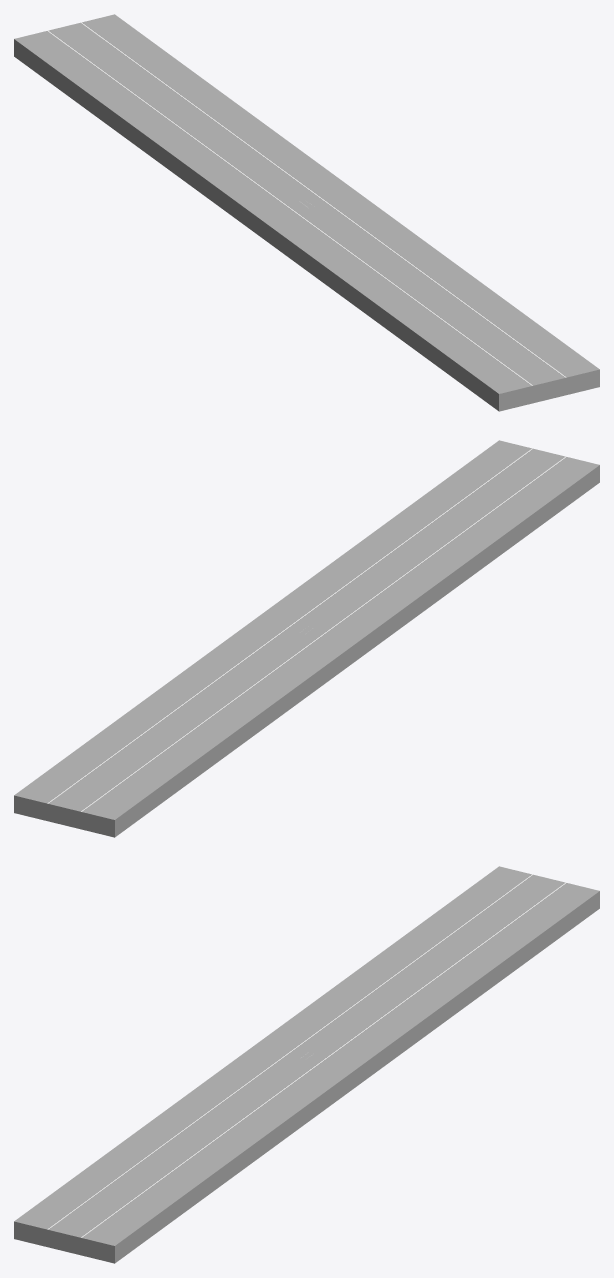
Rendered from Road_straight.fbx.
3 views of the same model, one above another, from view 1: azimuth 30°, elevation 25°; view 2: azimuth 150°, elevation 25°; view 3: azimuth 330°, elevation 25° (orthographic).
Parts seen in each view (by area): view 1: 立方体; view 2: 立方体; view 3: 立方体.
Boxes of the visible parts, x1,y1,x2,y2 form: 立方体: (14, 14, 599, 411); 立方体: (14, 440, 599, 837); 立方体: (14, 866, 599, 1263).
Size of the model in its own units: 1200 by 200 by 10000.
Materials: 1 (1 with a texture image).
